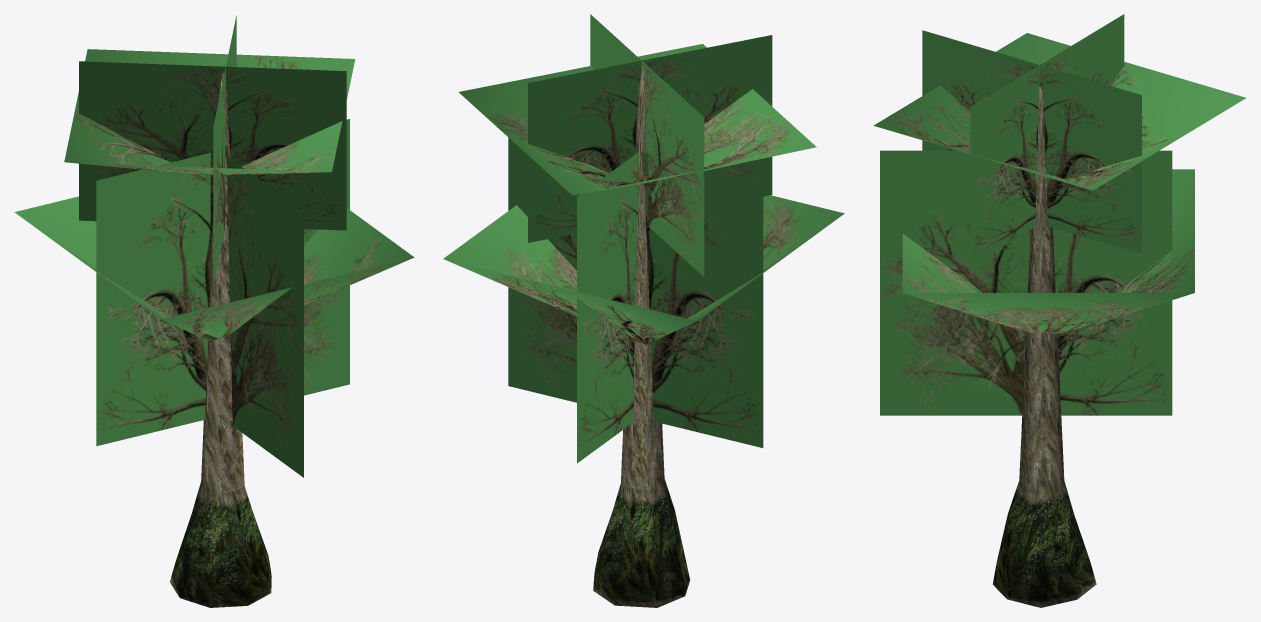
The model's file is decd_brown_l0.fbx.
3 renders of one model, left to right at view 1: azimuth 30°, elevation 25°; view 2: azimuth 150°, elevation 25°; view 3: azimuth 270°, elevation 25°, orthographic.
Parts seen in each view (by area): view 1: mesh_node; view 2: mesh_node; view 3: mesh_node.
Boxes of the visible parts, x1,y1,x2,y2 form: mesh_node: (14,15,414,607); mesh_node: (443,14,844,607); mesh_node: (873,14,1245,607).
Bounding box in the file's own units: 15.4 × 23.67 × 15.4.
